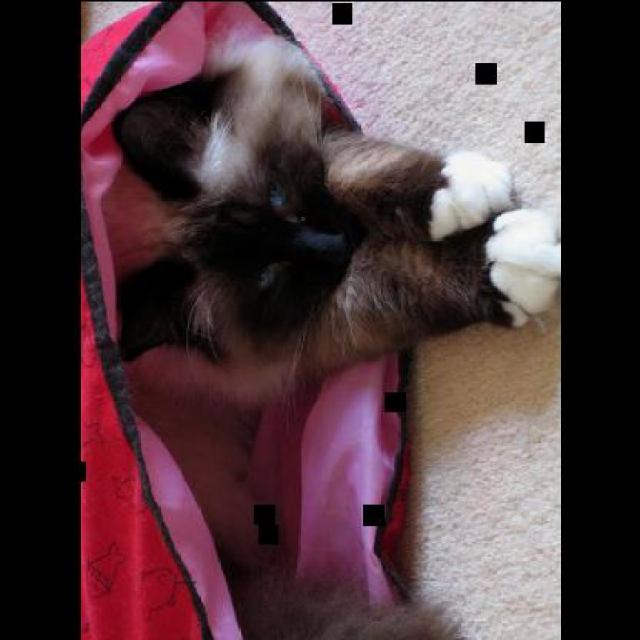unauthorized: (108, 43, 554, 412)
